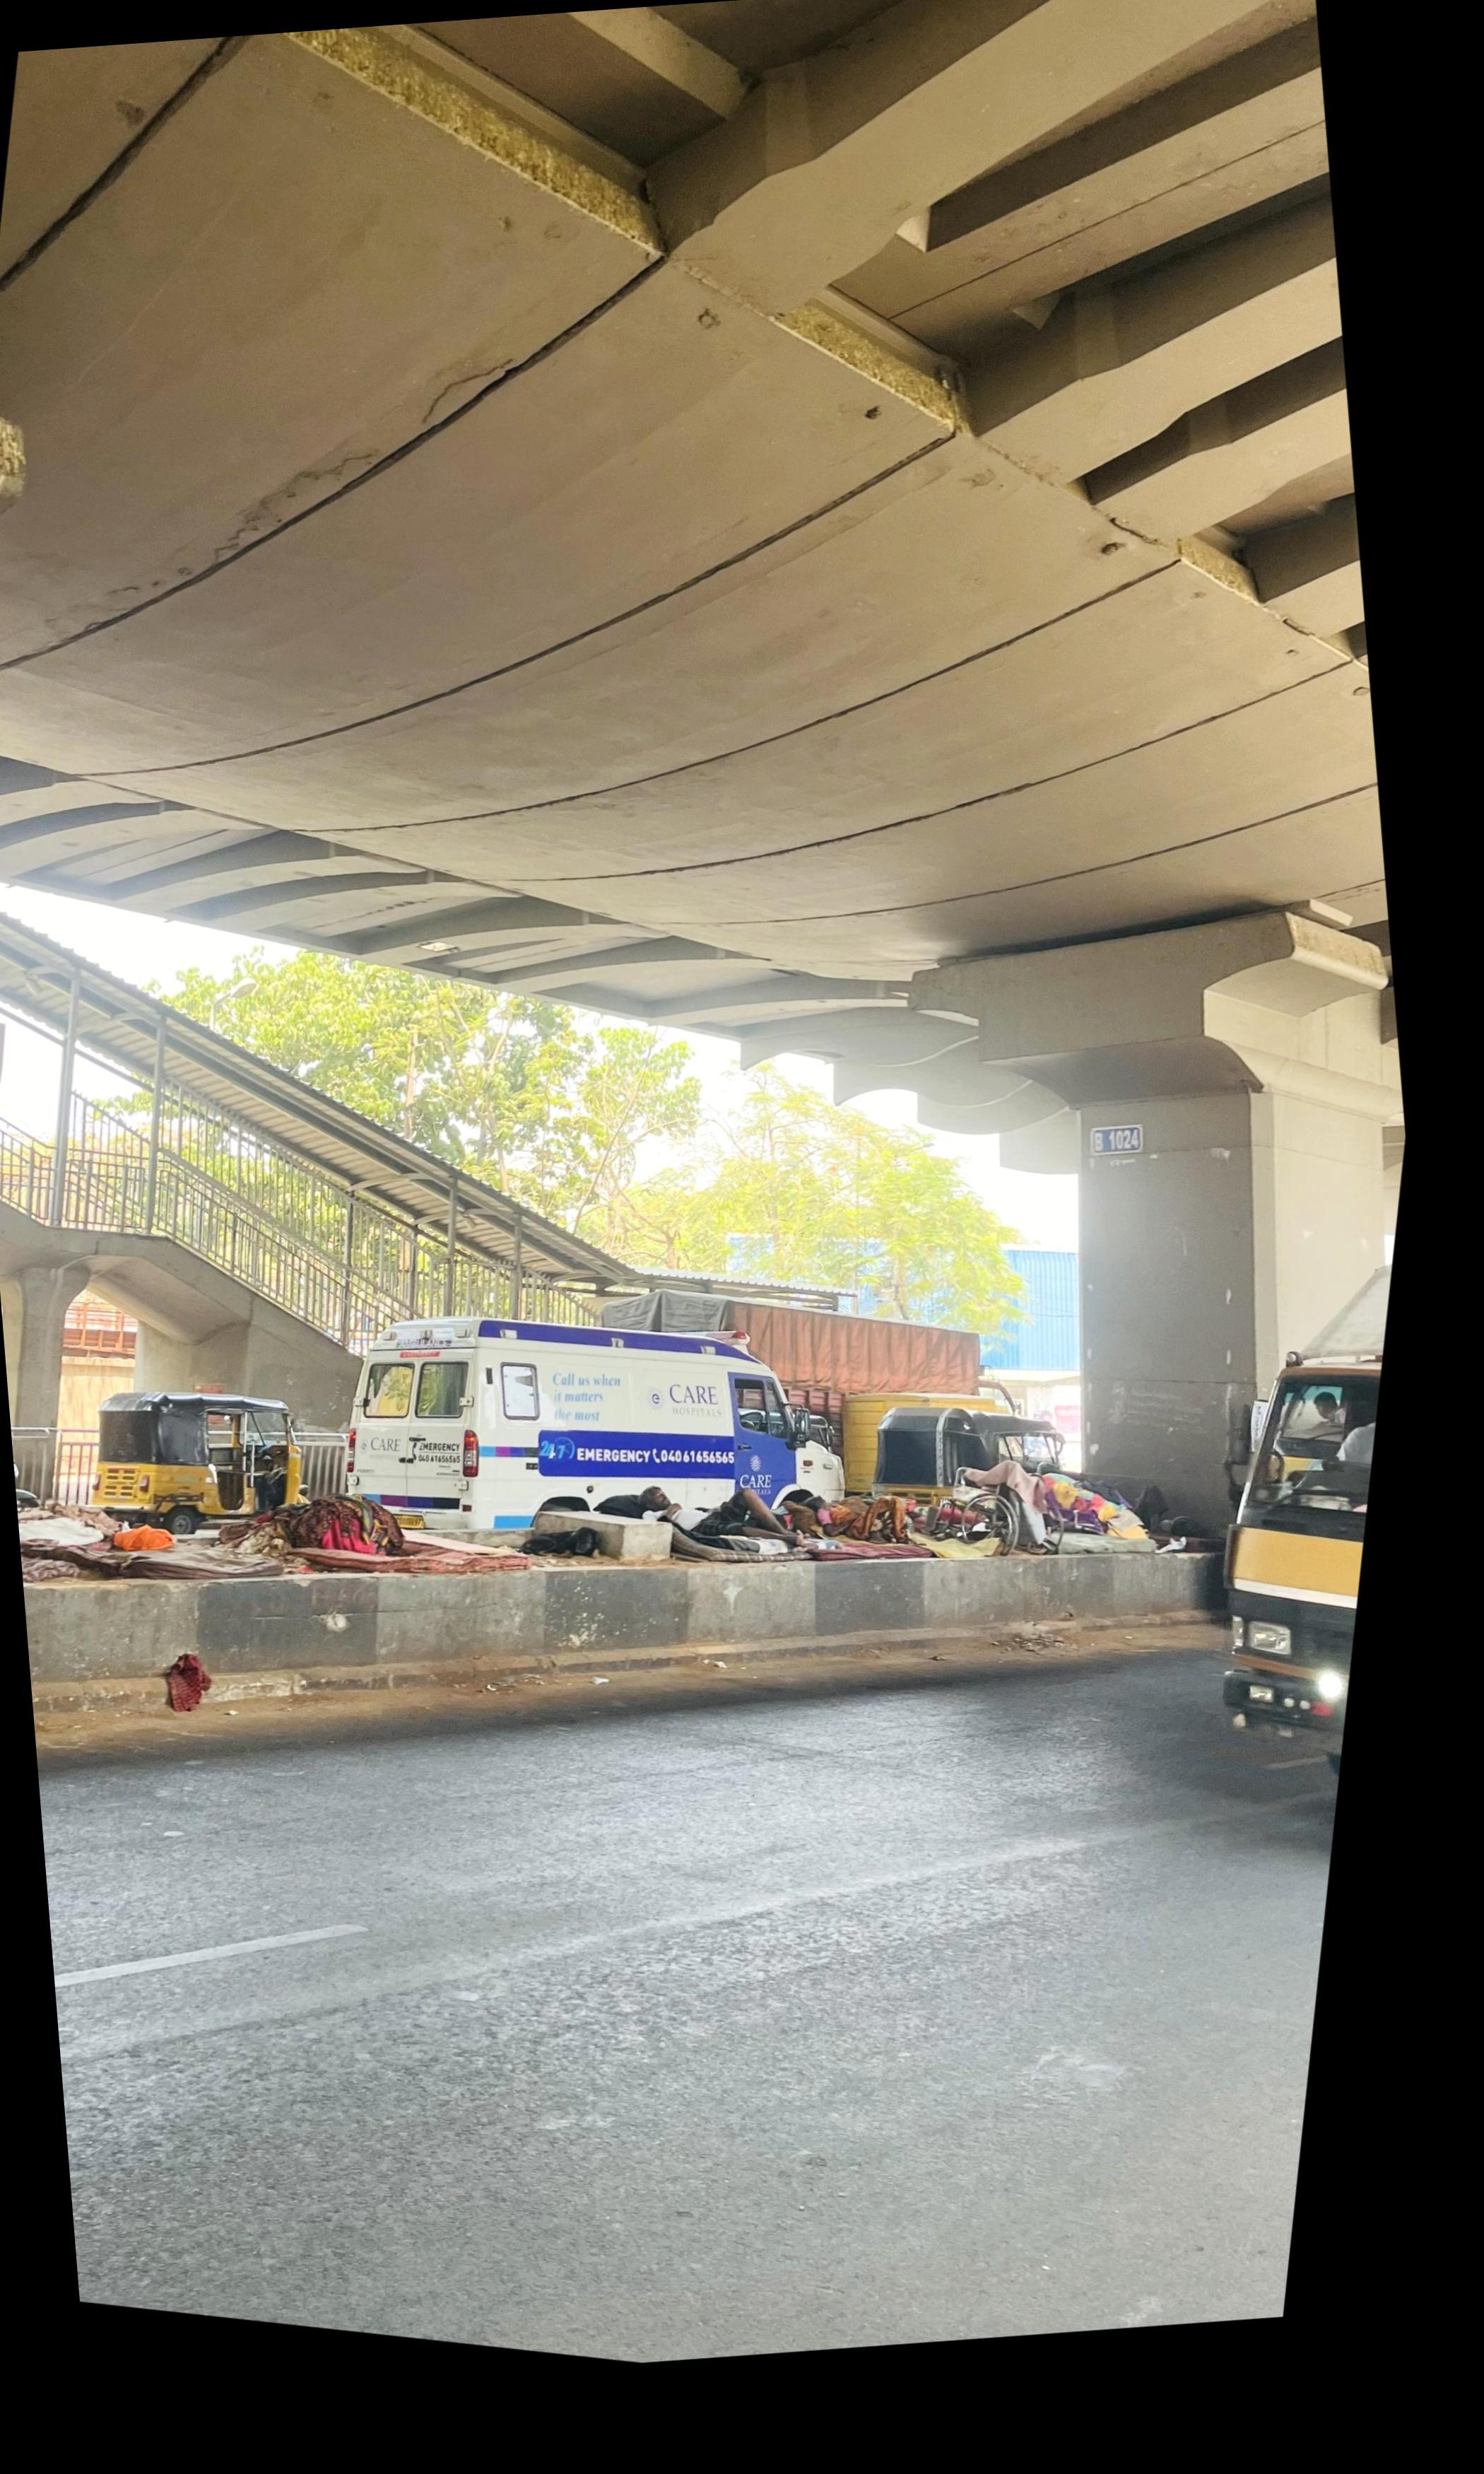ambulance: (339, 1322, 837, 1562)
